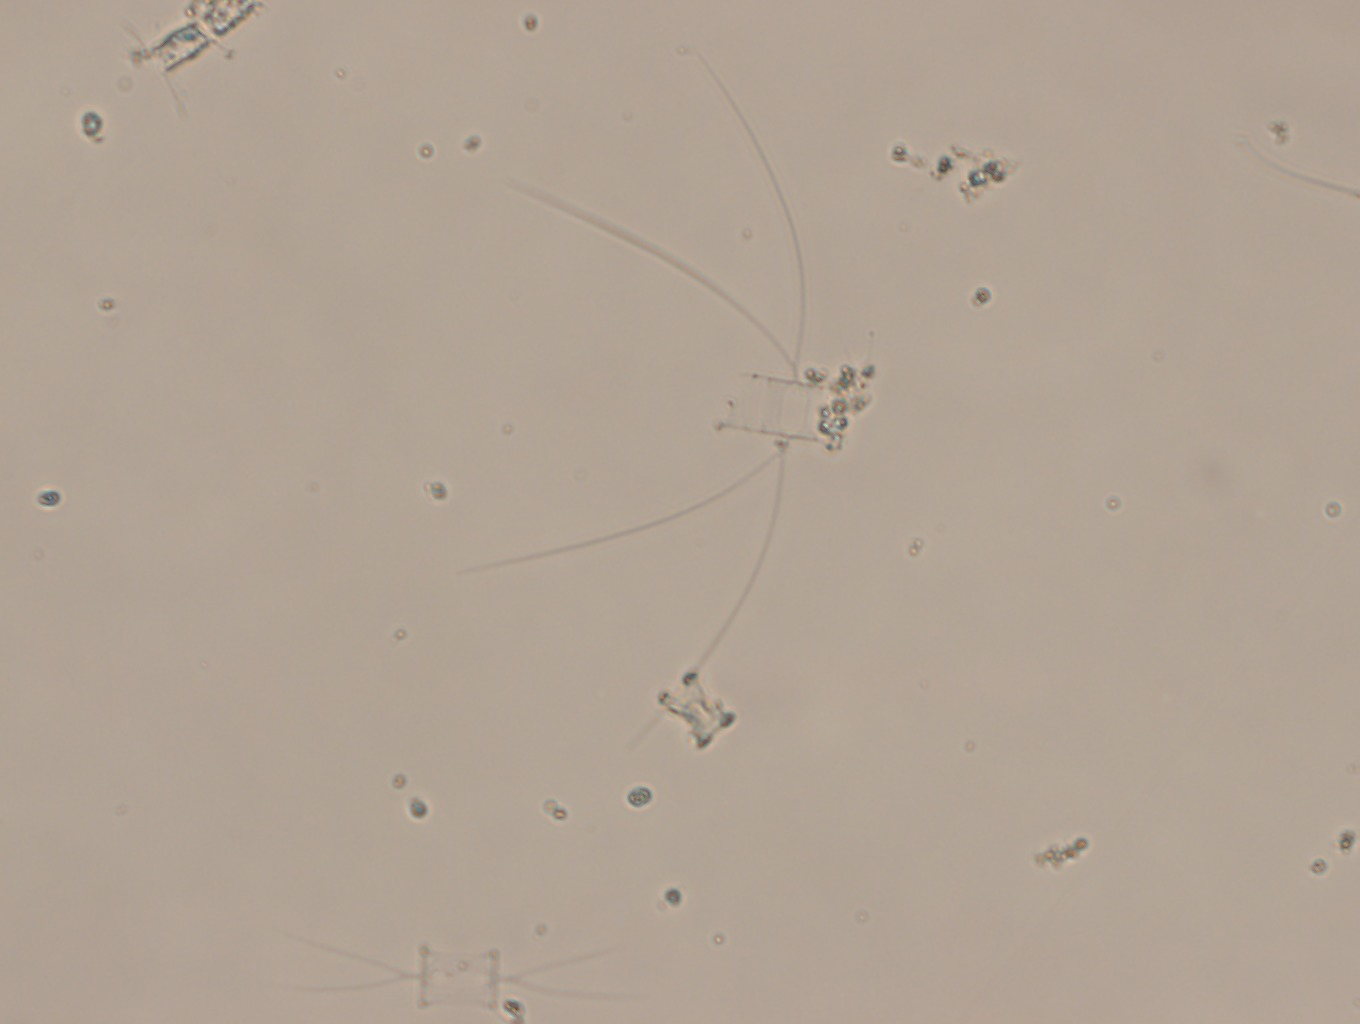chaetoceros: (479, 71, 883, 719), (287, 929, 647, 1018)
